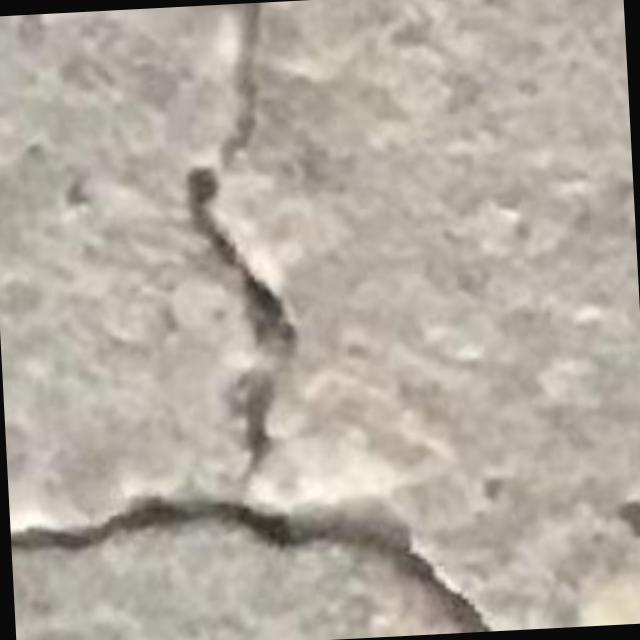crack: (92, 498, 485, 632)
